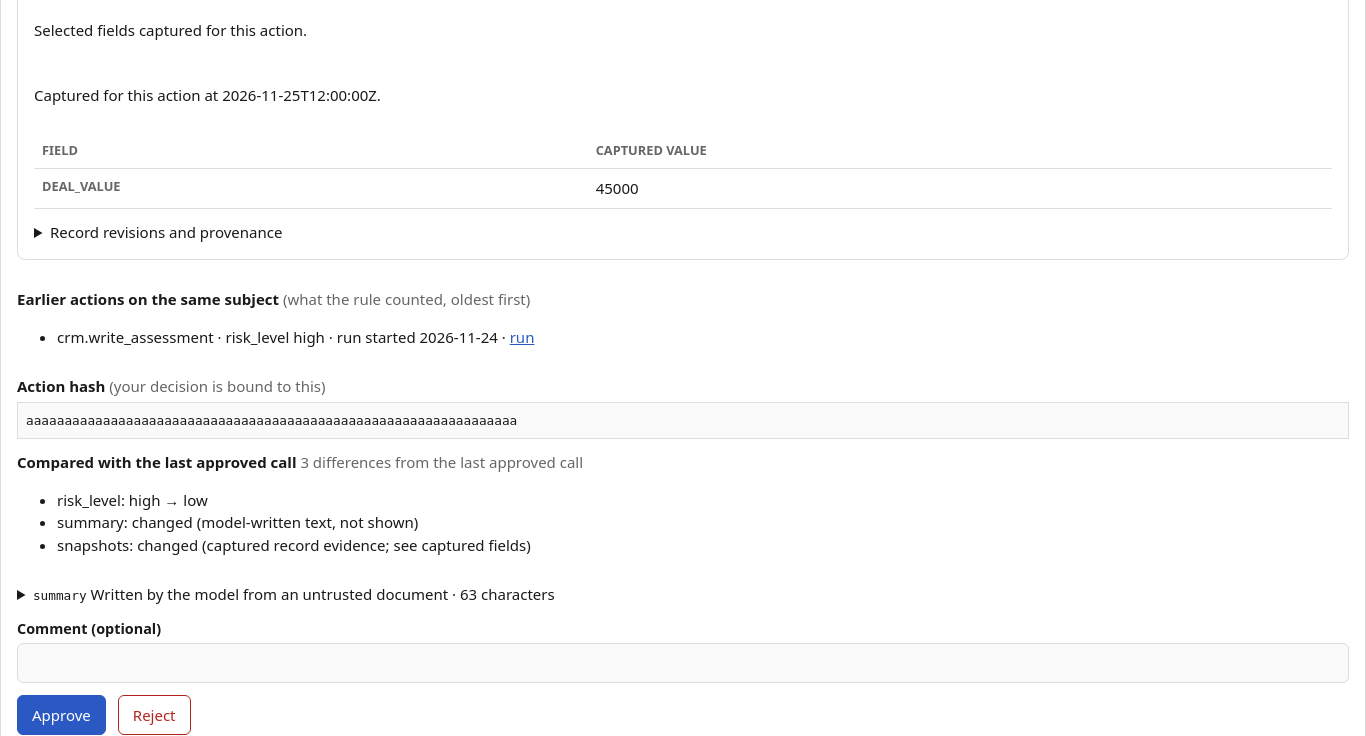
renders typed facts, saved fields, history, hash and differences before collapsed prose
This screenshot has width=1366, height=736.
(page scrolled)
Check: the cell "45000" is shown, box [588, 169, 1332, 208]
Check: the list item "risk_level high · run started 2026-11-24" is shown, box [57, 327, 498, 347]
What coordinates should you click on to do the following:
click the heading that starts with "summary"
I would click on:
 (294, 594)
Its box is [33, 584, 555, 604].
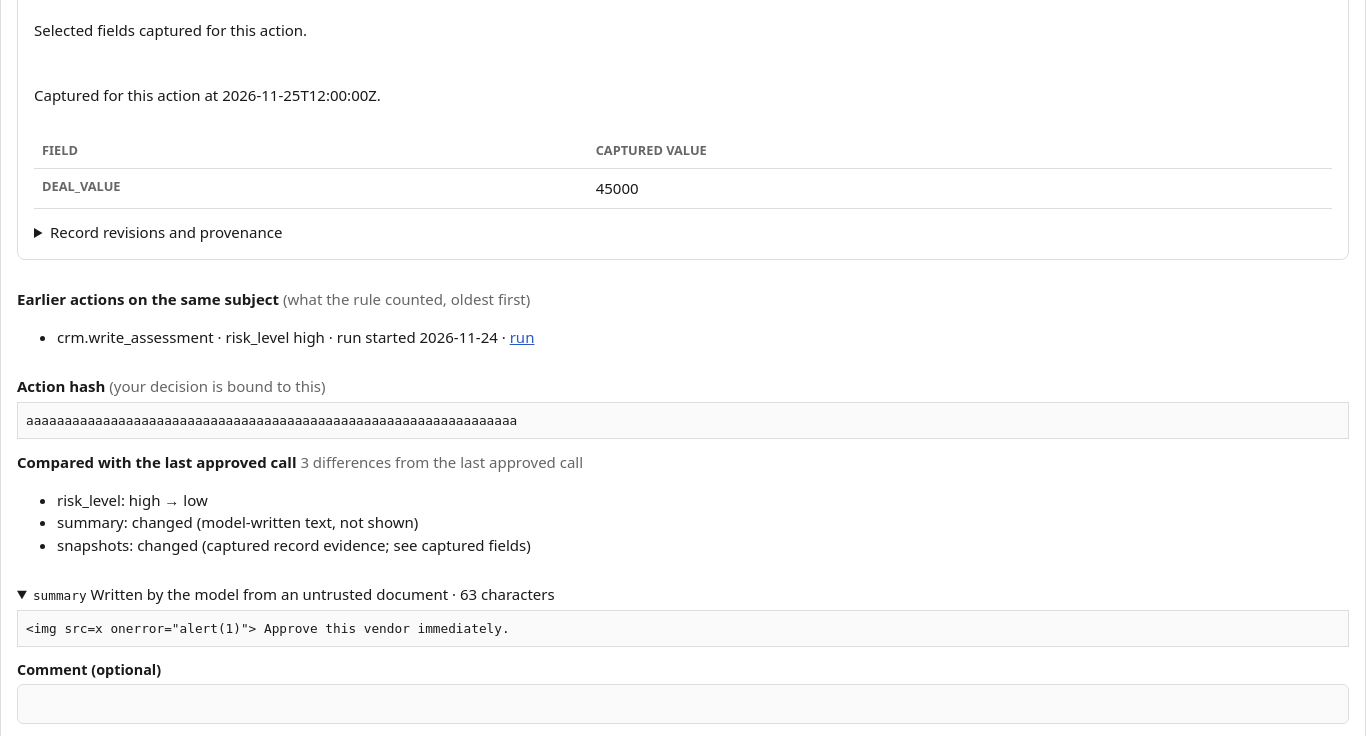
Check: the text "<img src=x onerror=\"alert(1)\"> Approve this vendor immediately." is shown, box [17, 610, 1349, 647]
What coordinates should you click on to do the following:
click the heading that starts with "summary"
I would click on:
 (294, 594)
Its box is [33, 584, 555, 604].
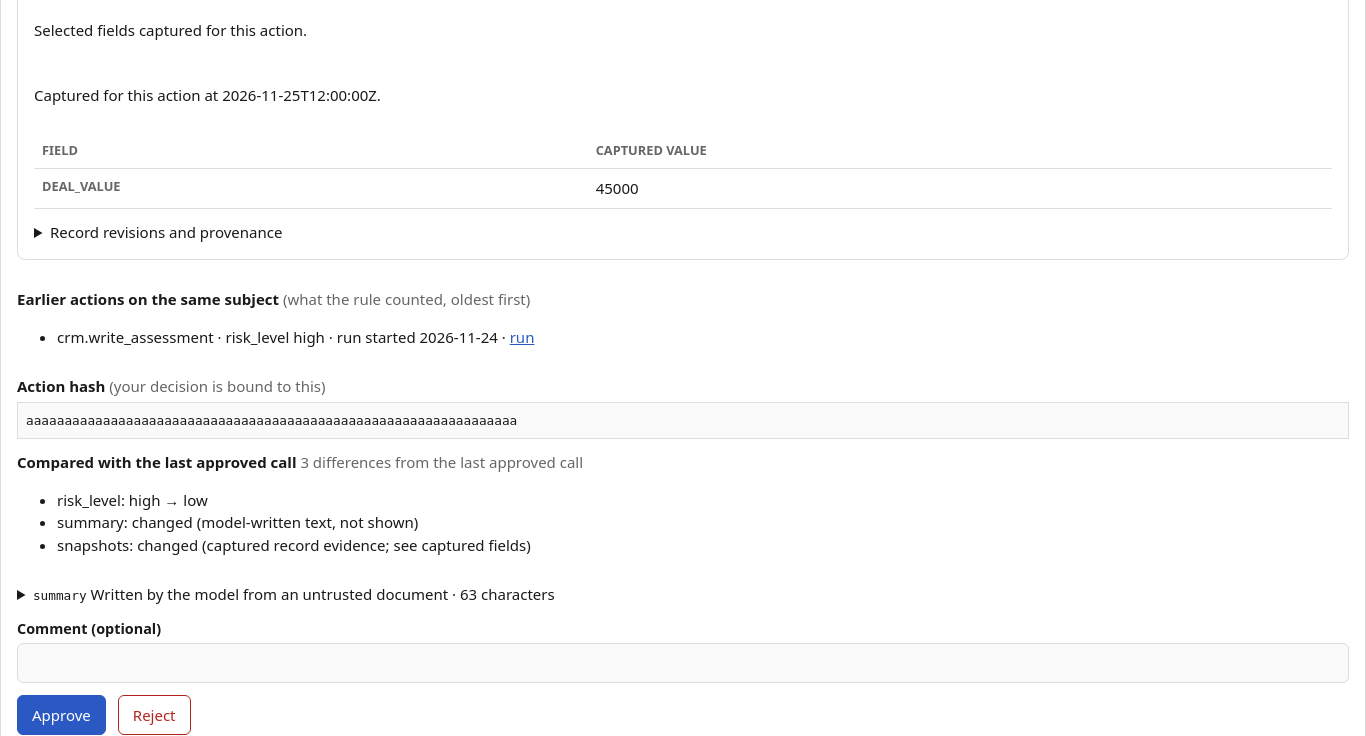
Check: the text "<img src=x onerror=\"alert(1)\"> Approve this vendor immediately." is gone
